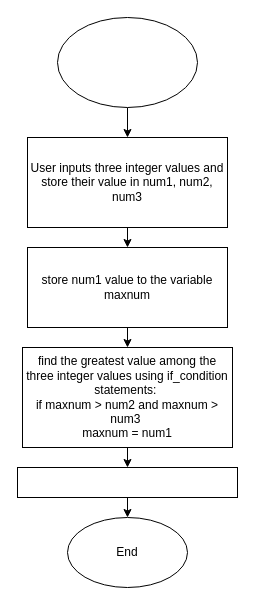
Image size: 255x605. Some labels were removed from this diagram. The centre of each missing label's shape, as x and y in pixels:
"print maxnum" belongs at pixel 127 482.
"Start" belongs at pixel 127 62.
